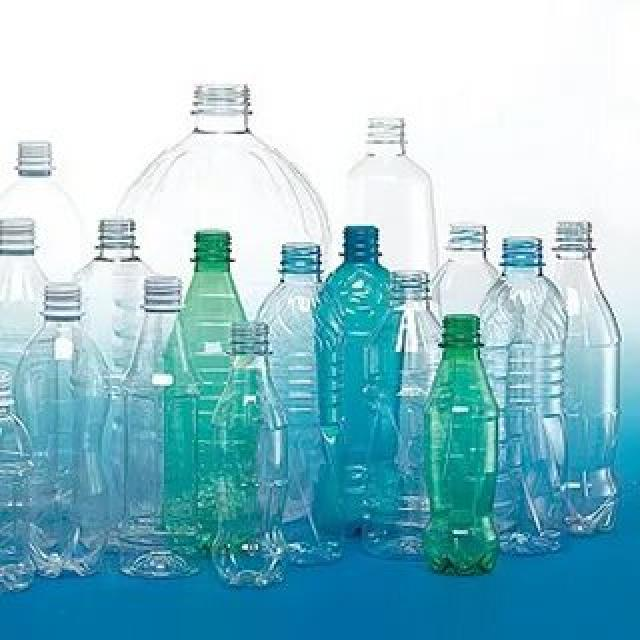green: (428, 315, 498, 575), (182, 230, 243, 370)
